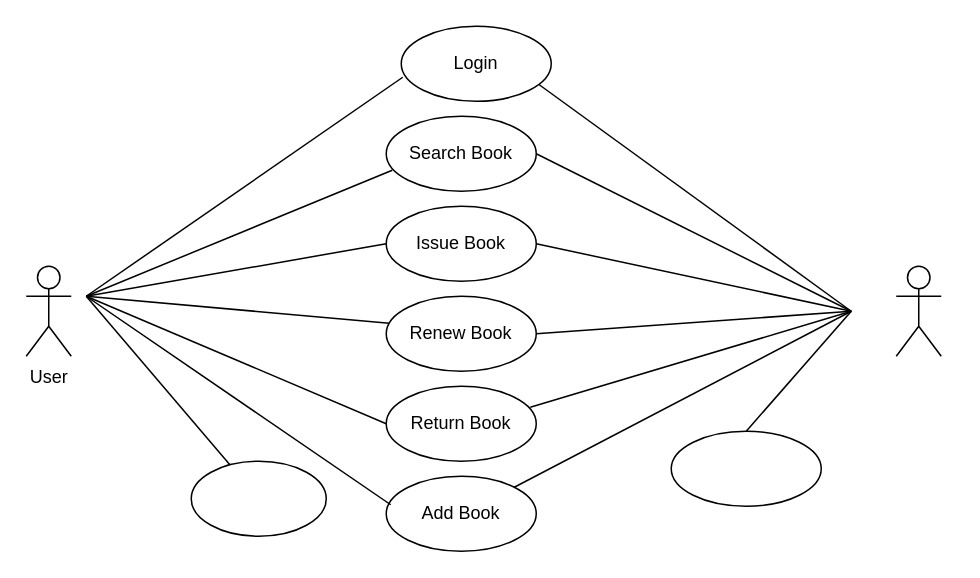
The diagram is 980 pixels wide and 578 high, and some of its shapes have lost their labels. The shapes that lost their labels are listed below. From the top down, each one's box as (x1, y1, x2, y2) in pixels, then its label:
(895, 265, 941, 356): Librarian
(670, 430, 821, 506): Delete Book
(190, 460, 326, 536): Check Account
